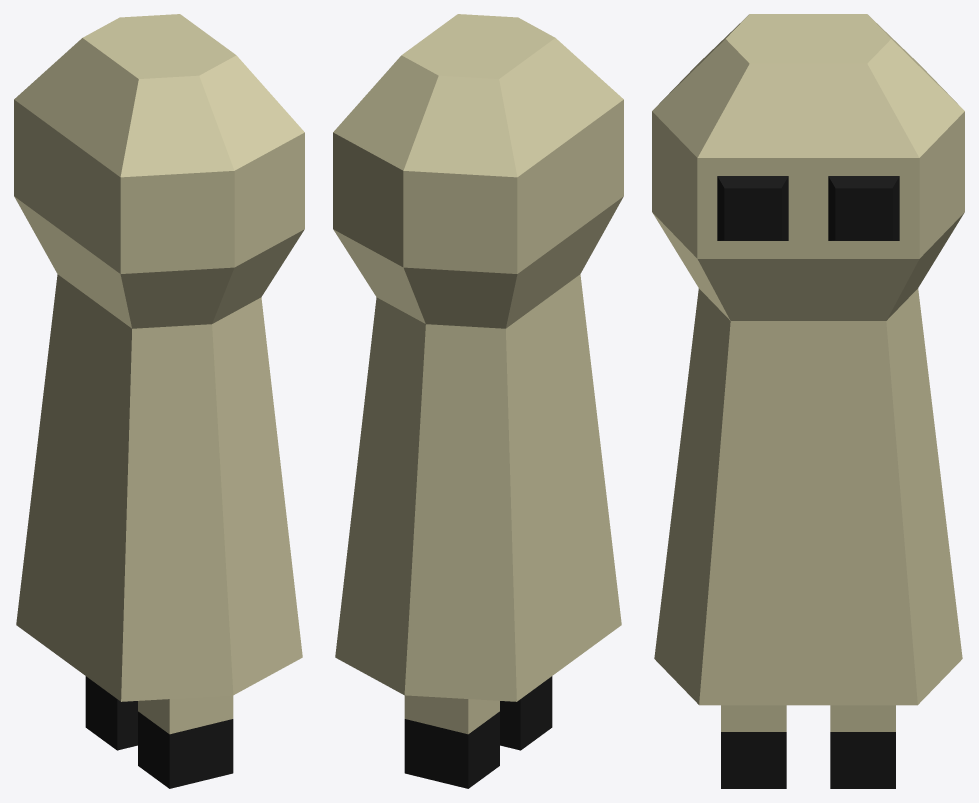
The model's file is Unequipped Human.fbx.
3 renders of one model, left to right at view 1: azimuth 30°, elevation 25°; view 2: azimuth 150°, elevation 25°; view 3: azimuth 270°, elevation 25°, orthographic. The views are drawn at different scales.
Visible parts, largest first — view 1: Unequipped Human; view 2: Unequipped Human; view 3: Unequipped Human.
Boxes of the visible parts, x1,y1,x2,y2 form: Unequipped Human: (14, 14, 304, 788); Unequipped Human: (333, 14, 623, 788); Unequipped Human: (652, 14, 964, 788).
Bounding box in the file's own units: 215 × 740 × 286.
